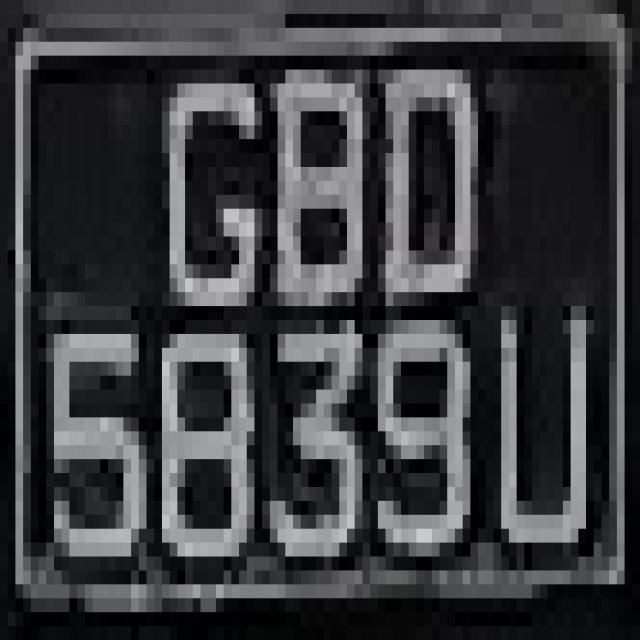3: (255, 278, 370, 584)
5: (39, 292, 170, 571)
8: (146, 320, 270, 557)
9: (362, 251, 486, 598)
B: (247, 42, 370, 320)
D: (362, 28, 486, 306)
G: (139, 28, 285, 320)
U: (486, 264, 594, 570)
